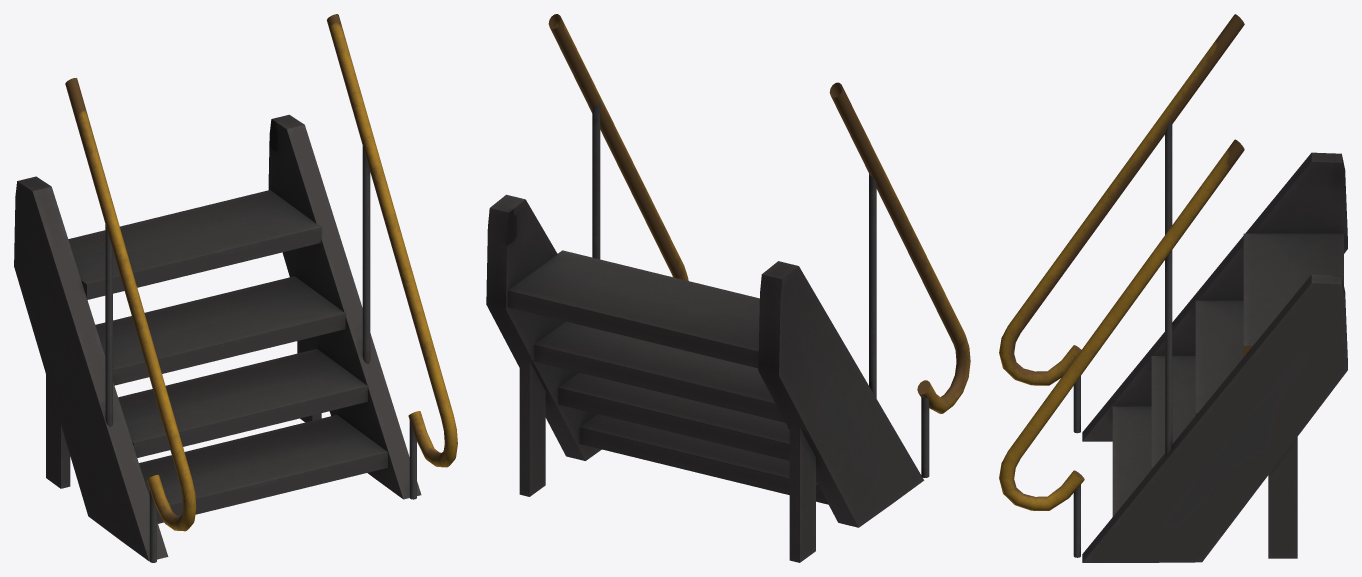
The model's file is SM_Stairs.fbx.
The picture shows the model from 3 angles, left to right: view 1: azimuth 30°, elevation 25°; view 2: azimuth 150°, elevation 25°; view 3: azimuth 270°, elevation 25°; orthographic projection. The views are drawn at different scales.
Parts seen in each view (by area): view 1: SM_Stairs; view 2: SM_Stairs; view 3: SM_Stairs.
Part boxes in pixels (bbox=[...]): SM_Stairs: bbox=[14, 14, 457, 562]; SM_Stairs: bbox=[486, 14, 970, 562]; SM_Stairs: bbox=[999, 14, 1347, 562].
Bounding box in the file's own units: 89.95 × 100 × 133.
Materials: 1 (1 with a texture image).
